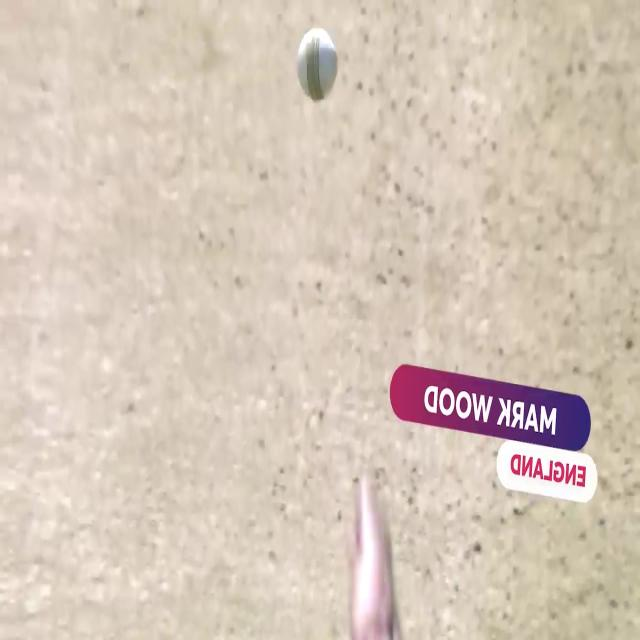ball: (290, 14, 338, 107)
